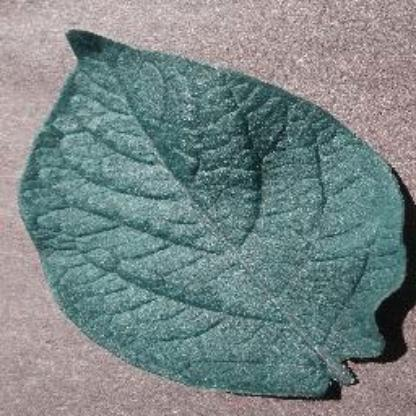Healthy-plant: (13, 26, 410, 398)
